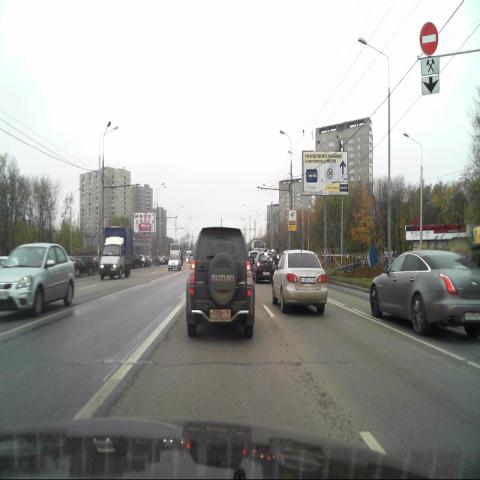8_5_2: (421, 59, 439, 76)
